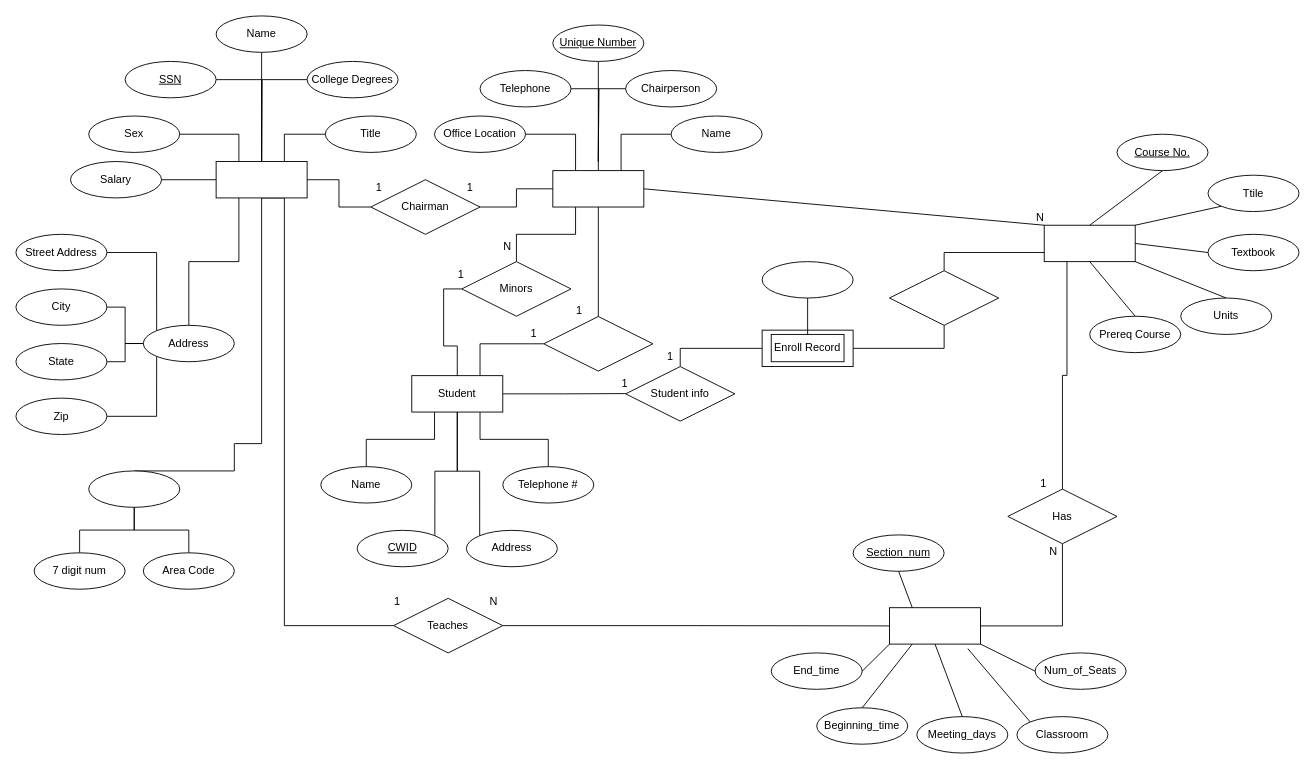
The diagram is 1315 pixels wide and 769 high, and some of its shapes have lost their labels. The centre of each missing label's shape, as x and y in pixels:
"Course" belongs at [1089,243].
"Course info" belongs at [944,297].
"Department" belongs at [598,188].
"Grade" belongs at [807,279].
"Majors" belongs at [598,343].
"Phone Number" belongs at [134,488].
"Professor" belongs at [261,179].
"Section" belongs at [935,625].
